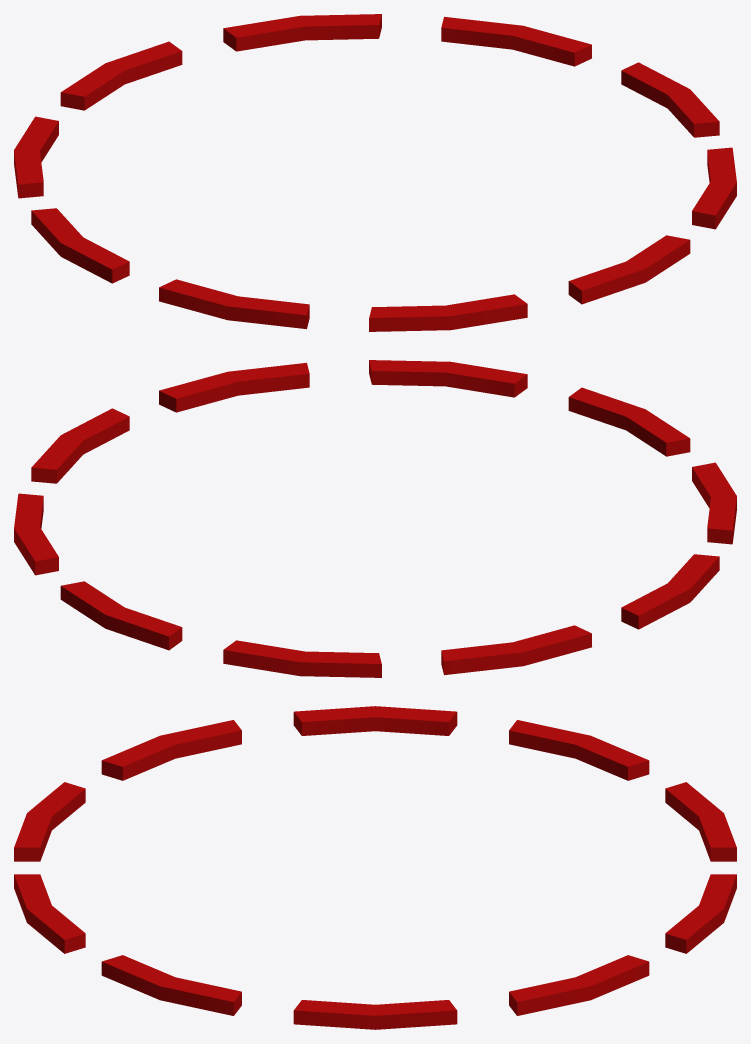
Rendered from jar limit.fbx.
3 renders of one model, top to bottom at view 1: azimuth 30°, elevation 25°; view 2: azimuth 150°, elevation 25°; view 3: azimuth 270°, elevation 25°, orthographic.
Parts seen in each view (by area): view 1: pCylinder1; view 2: pCylinder1; view 3: pCylinder1.
Boxes of the visible parts, left/top/right/bottom form: pCylinder1: left=14, top=14, right=736, bottom=331; pCylinder1: left=14, top=360, right=736, bottom=677; pCylinder1: left=14, top=706, right=736, bottom=1029.
Bounding box in the file's own units: 17.89 × 0.3761 × 17.64.
